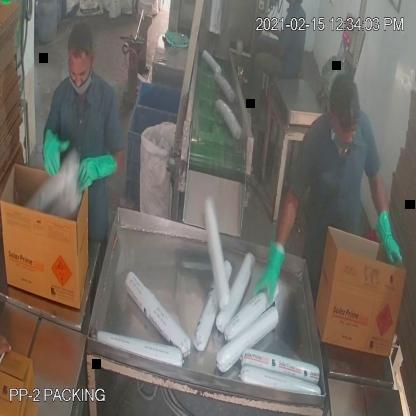glove: (73, 139, 124, 201), (250, 238, 290, 312), (373, 198, 406, 271), (39, 128, 67, 185)
